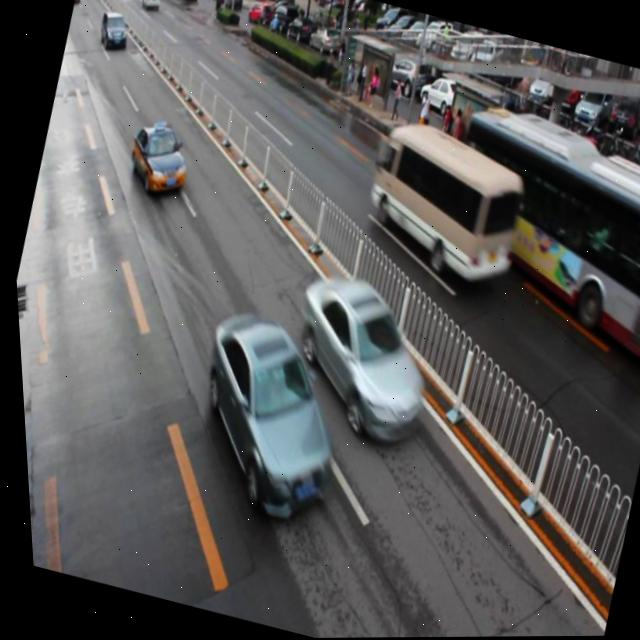car: (167, 301, 361, 526), (266, 265, 448, 451), (120, 119, 198, 203)
truck: (348, 114, 534, 287)
van: (411, 97, 640, 376)
